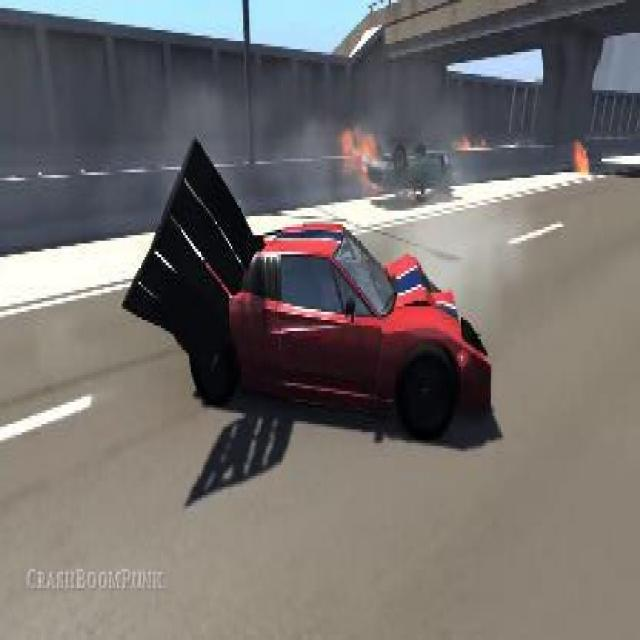accident: (355, 123, 454, 197)
